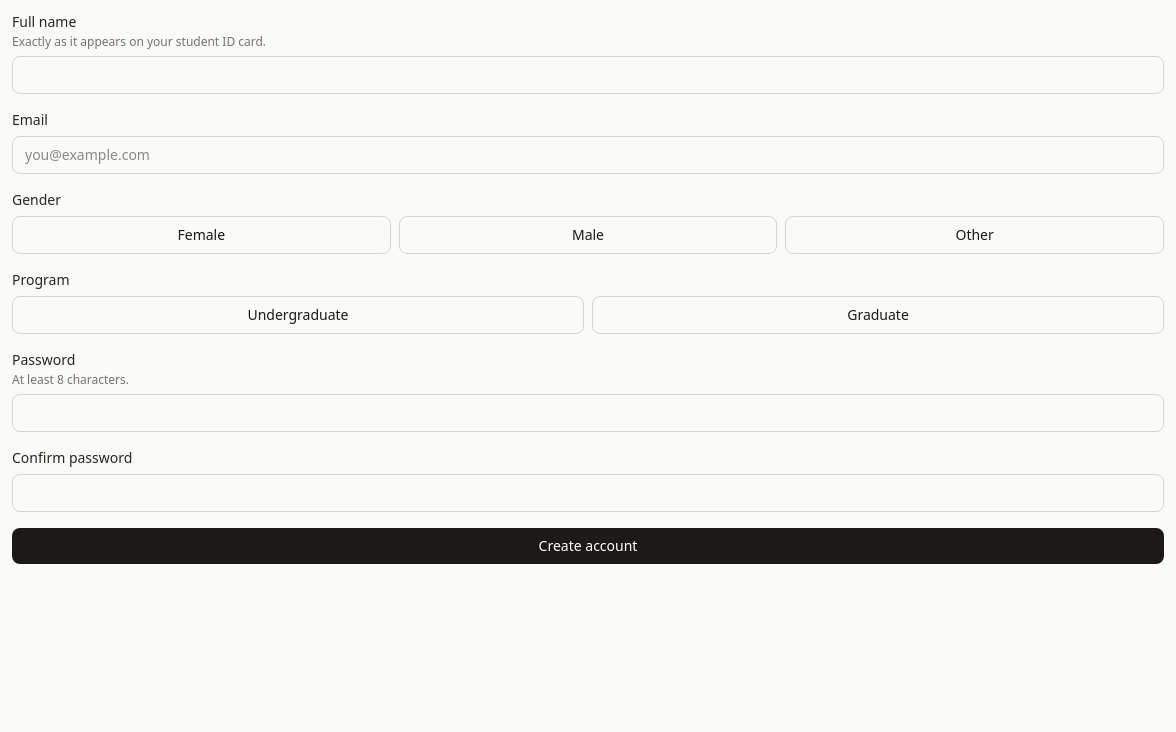
Test: signup form › asks the student who answers Other to say what they mean
Expected: the field labelled "How would you describe it?" is not shown
Type "FOFANA VARLEE" into the field labelled "Full name" at [588, 75], box [12,56,1164,94]
Type "fo25v2eg@apu.ac.jp" into the field labelled "Email" at [588, 155], box [12,136,1164,174]
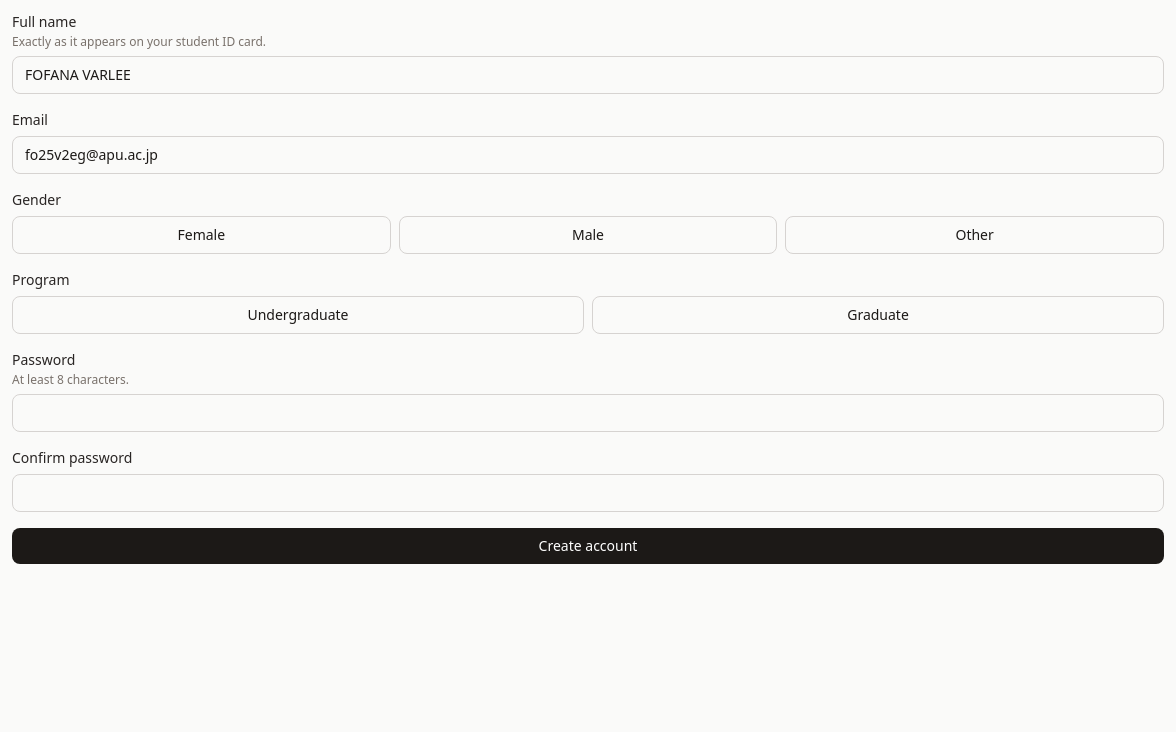
Click the radio button labelled "Other" at [975, 235], box [785,216,1164,254]
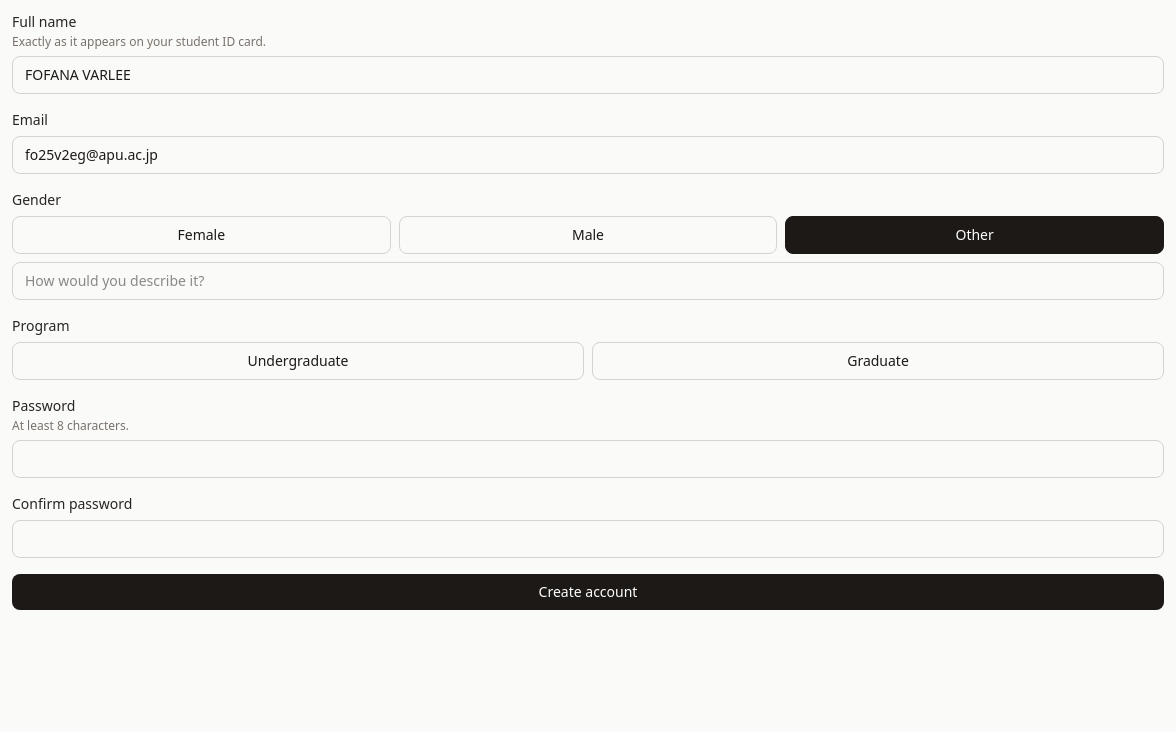
Click the radio button labelled "Undergraduate" at [298, 361], box [12,342,584,380]
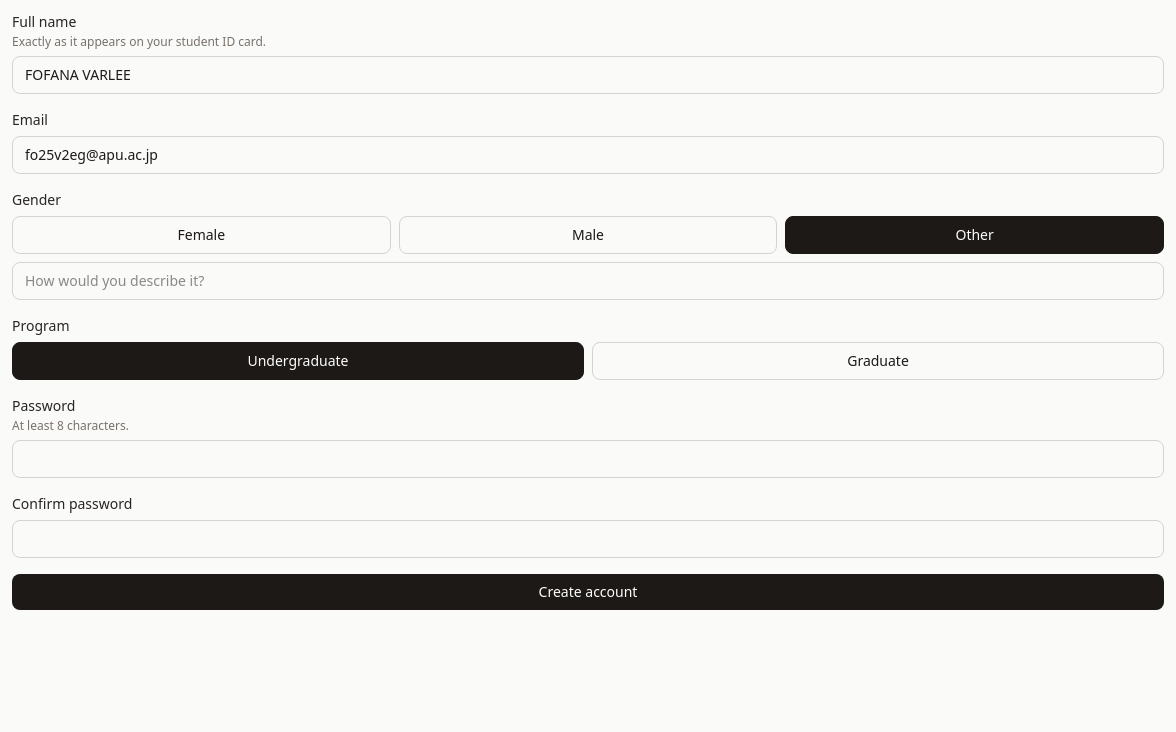
Type "correct horse" into the password field labelled "Password" at [588, 459], box [12,440,1164,478]
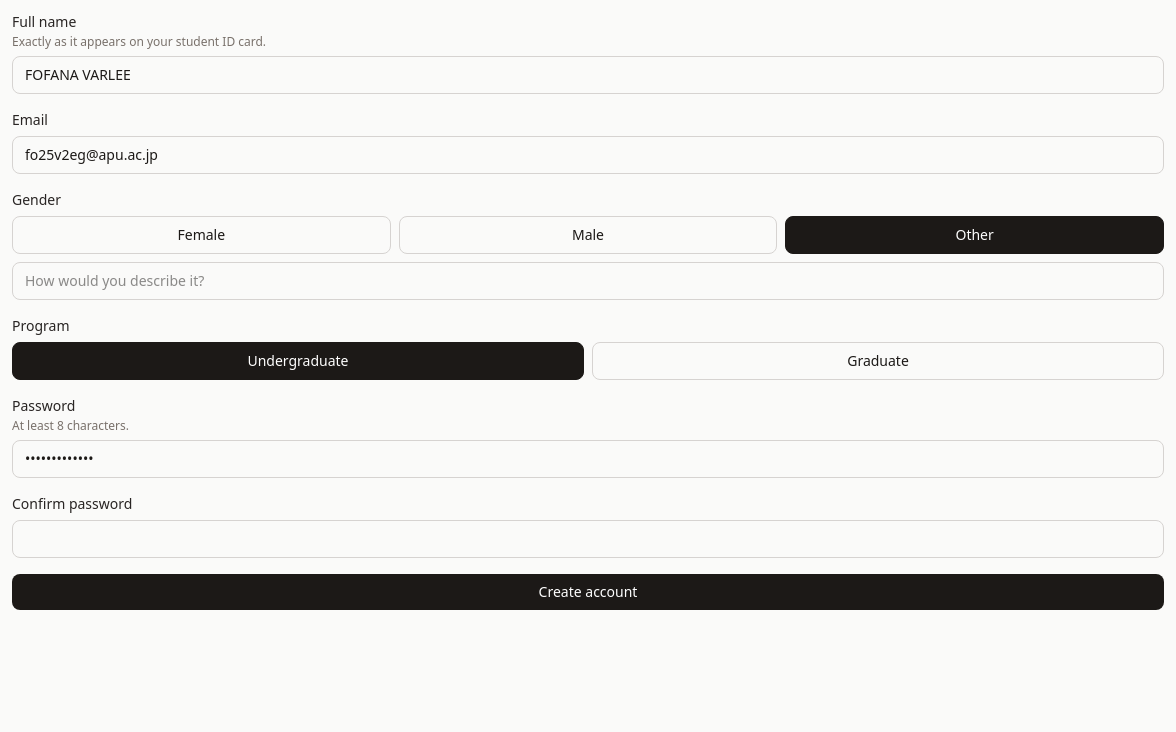
Type "correct horse" into the password field labelled "Confirm password" at [588, 539], box [12,520,1164,558]
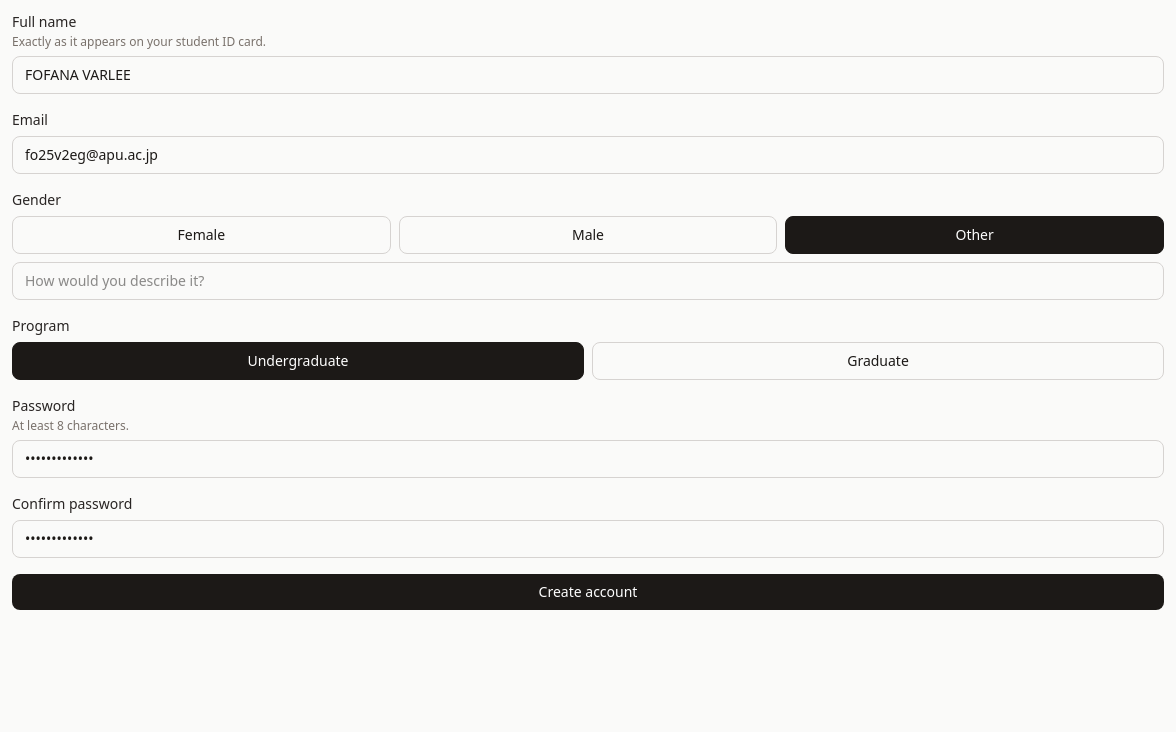
Click the button "Create account" at [588, 592], box [12,574,1164,610]
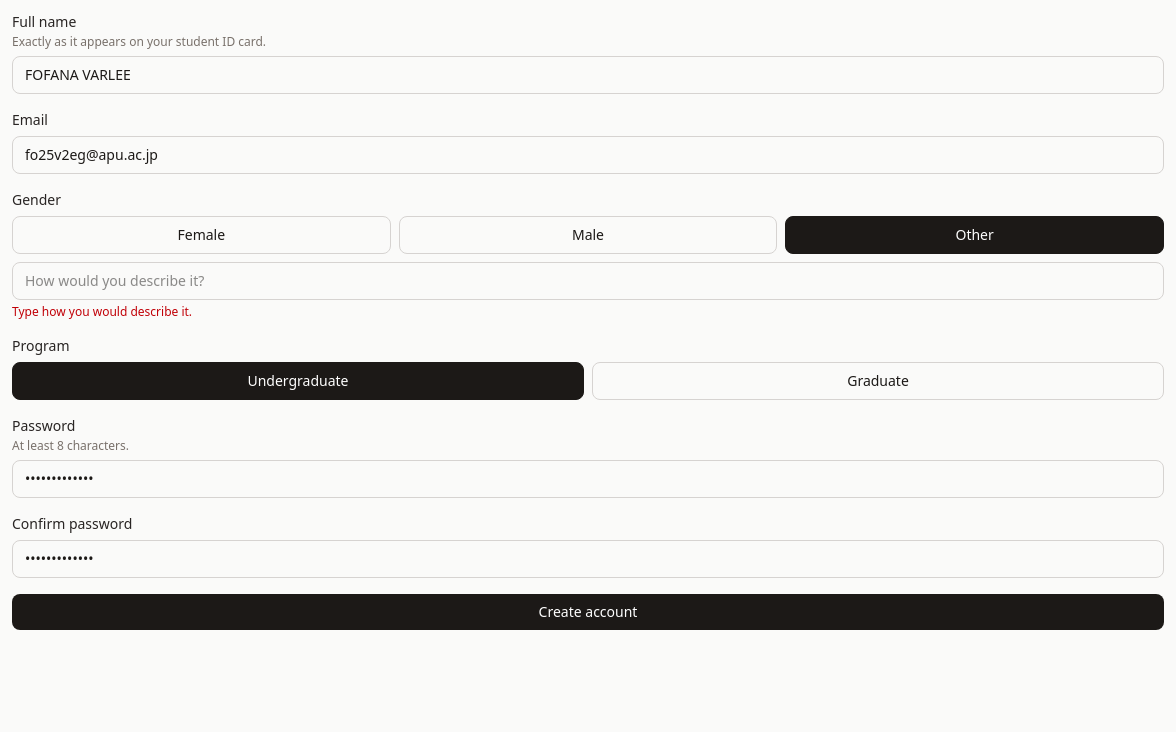
Now the text "Type how you would describe it." is shown, box [12,303,192,320]
